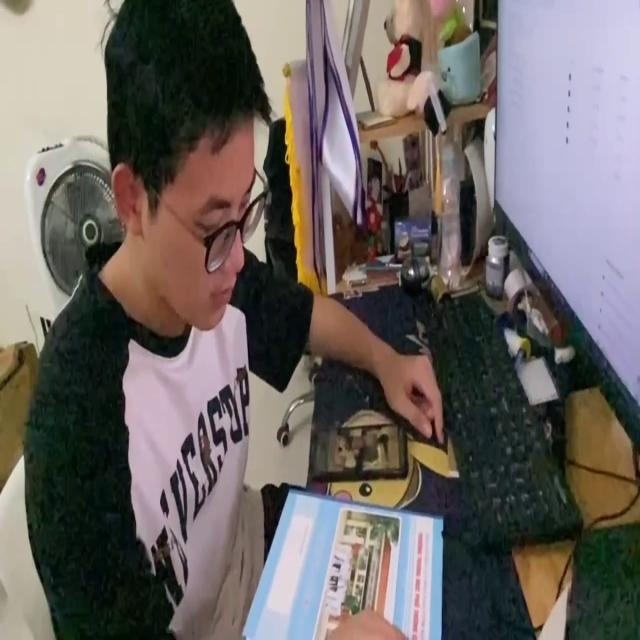book: (239, 483, 443, 640)
laptop: (492, 1, 640, 452)
phone: (308, 412, 408, 482)
student: (22, 0, 446, 638)
